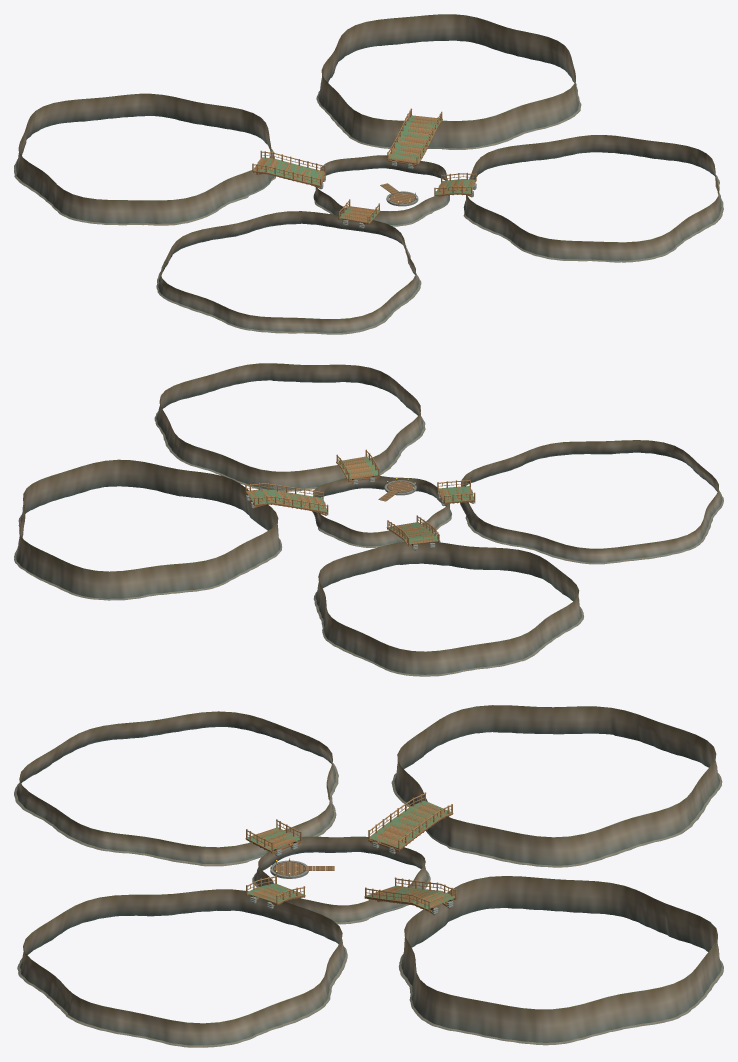
Rendered from grade3-landscape-details-v4.glb.
The picture shows the model from 3 angles, top to bottom: view 1: azimuth 30°, elevation 25°; view 2: azimuth 150°, elevation 25°; view 3: azimuth 270°, elevation 25°; orthographic projection. The views are drawn at different scales.
Visible parts, largest first — view 1: CoastV4_habitat-4_RockSection, CoastV4_habitat-3_RockSection, CoastV4_habitat-2_RockSection, CoastV4_habitat-1_RockSection, CoastV4_arrival_RockSection, Walk_BridgeV4_habitat-4_ContinuousProxy, CoastV4_habitat-1_WetShore, CoastV4_habitat-2_WetShore, CoastV4_habitat-3_WetShore, CoastV4_habitat-4_WetShore, Walk_BridgeV4_habitat-3_ContinuousProxy, BridgeV4_habitat-3_structure_V4_honey_rail; view 2: CoastV4_habitat-4_RockSection, CoastV4_habitat-3_RockSection, CoastV4_habitat-2_RockSection, CoastV4_habitat-1_RockSection, CoastV4_arrival_RockSection, CoastV4_habitat-3_WetShore, CoastV4_habitat-4_WetShore, CoastV4_habitat-1_WetShore, CoastV4_habitat-2_WetShore, Walk_BridgeV4_habitat-4_ContinuousProxy, BridgeV4_habitat-4_structure_V4_honey_rail; view 3: CoastV4_habitat-4_RockSection, CoastV4_habitat-3_RockSection, CoastV4_habitat-2_RockSection, CoastV4_habitat-1_RockSection, CoastV4_arrival_RockSection, CoastV4_habitat-2_WetShore, CoastV4_habitat-4_WetShore, Walk_BridgeV4_habitat-3_ContinuousProxy, CoastV4_habitat-1_WetShore, CoastV4_habitat-3_WetShore, BridgeV4_habitat-4_structure_V4_honey_rail, Walk_BridgeV4_habitat-4_ContinuousProxy (+1 smaller).
Part boxes in pixels (x1,y1,x2,y2): CoastV4_habitat-4_RockSection: (318, 14, 578, 149); CoastV4_habitat-3_RockSection: (16, 93, 274, 223); CoastV4_habitat-2_RockSection: (464, 135, 721, 260); CoastV4_habitat-1_RockSection: (158, 211, 419, 332); CoastV4_arrival_RockSection: (314, 155, 449, 224); Walk_BridgeV4_habitat-4_ContinuousProxy: (389, 115, 441, 163); CoastV4_habitat-1_WetShore: (156, 229, 421, 334); CoastV4_habitat-2_WetShore: (463, 175, 723, 262); CoastV4_habitat-3_WetShore: (14, 149, 275, 225); CoastV4_habitat-4_WetShore: (316, 74, 581, 149); Walk_BridgeV4_habitat-3_ContinuousProxy: (255, 157, 323, 185); BridgeV4_habitat-3_structure_V4_honey_rail: (252, 151, 325, 185); CoastV4_habitat-4_RockSection: (16, 459, 280, 598); CoastV4_habitat-3_RockSection: (315, 541, 581, 674); CoastV4_habitat-2_RockSection: (156, 363, 423, 490); CoastV4_habitat-1_RockSection: (461, 440, 721, 562); CoastV4_arrival_RockSection: (313, 475, 451, 546); CoastV4_habitat-3_WetShore: (313, 562, 583, 676); CoastV4_habitat-4_WetShore: (14, 514, 282, 600); CoastV4_habitat-1_WetShore: (460, 491, 723, 564); CoastV4_habitat-2_WetShore: (154, 411, 425, 491); Walk_BridgeV4_habitat-4_ContinuousProxy: (249, 489, 326, 511); BridgeV4_habitat-4_structure_V4_honey_rail: (245, 483, 328, 512); CoastV4_habitat-4_RockSection: (401, 876, 721, 1042); CoastV4_habitat-3_RockSection: (394, 705, 719, 865); CoastV4_habitat-2_RockSection: (20, 889, 345, 1045); CoastV4_habitat-1_RockSection: (16, 711, 335, 863); CoastV4_arrival_RockSection: (254, 836, 428, 922); CoastV4_habitat-2_WetShore: (17, 947, 347, 1047); CoastV4_habitat-4_WetShore: (398, 954, 723, 1045); Walk_BridgeV4_habitat-3_ContinuousProxy: (370, 800, 451, 848); CoastV4_habitat-1_WetShore: (14, 725, 338, 866); CoastV4_habitat-3_WetShore: (391, 773, 722, 867); BridgeV4_habitat-4_structure_V4_honey_rail: (365, 878, 456, 910); Walk_BridgeV4_habitat-4_ContinuousProxy: (366, 885, 454, 909).
Bounding box in the file's own units: 104 × 6.36 × 96.87.
